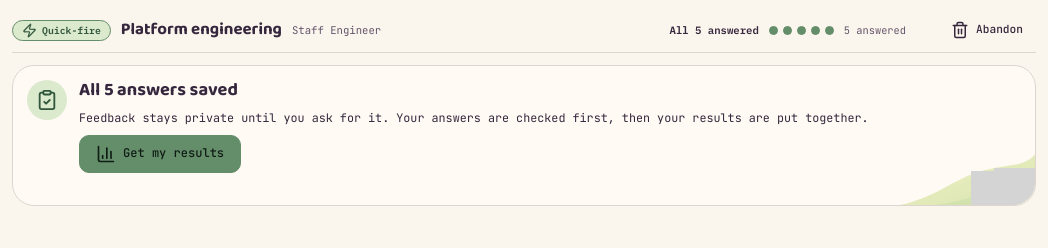
Test: Quick-fire runner › never re-sends a refused results request on its own
Step 1. Click the button "Get my results" → (160, 154), box 79,135 -> 241,173
Wait 6000 ms
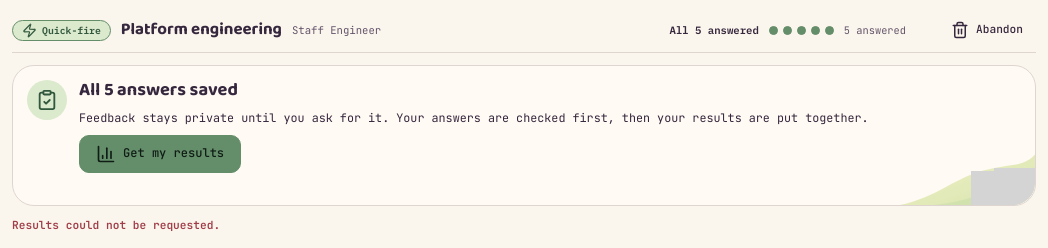
Expected: the text "Results could not be requested." is shown, 12,218 -> 220,232
